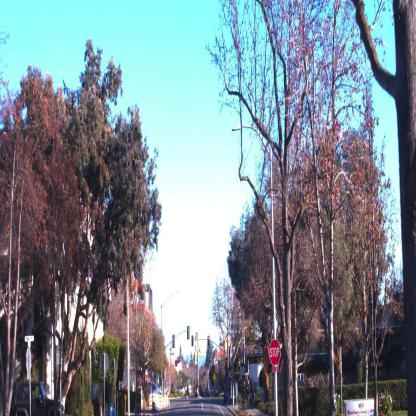car: (11, 366, 65, 416)
clock: (361, 0, 399, 77)
stop sign: (268, 340, 282, 367)
traffic light: (187, 325, 190, 340), (172, 333, 175, 348), (207, 336, 210, 346), (192, 335, 194, 348)
